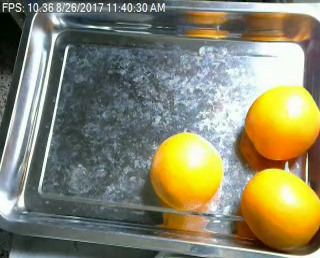Orange: (241, 167, 320, 252), (149, 132, 222, 210), (245, 84, 319, 159)
